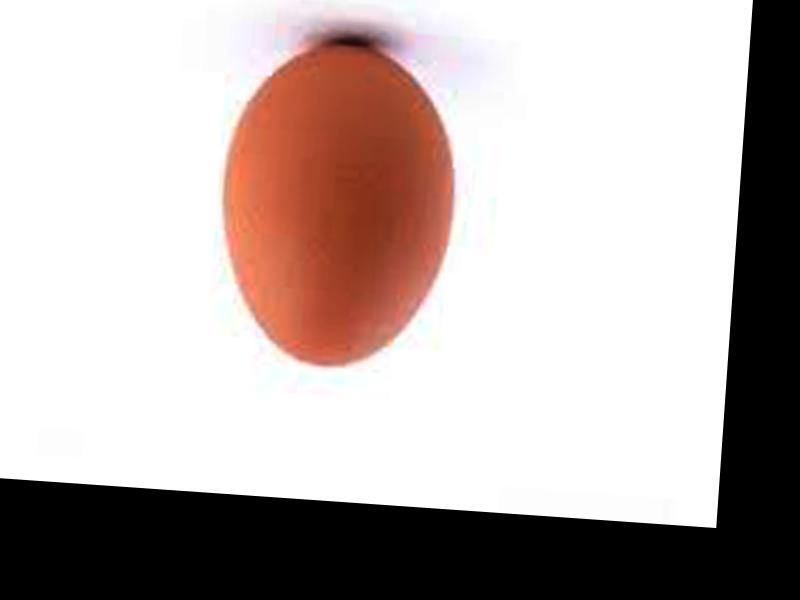Eggs: (212, 37, 466, 373)
